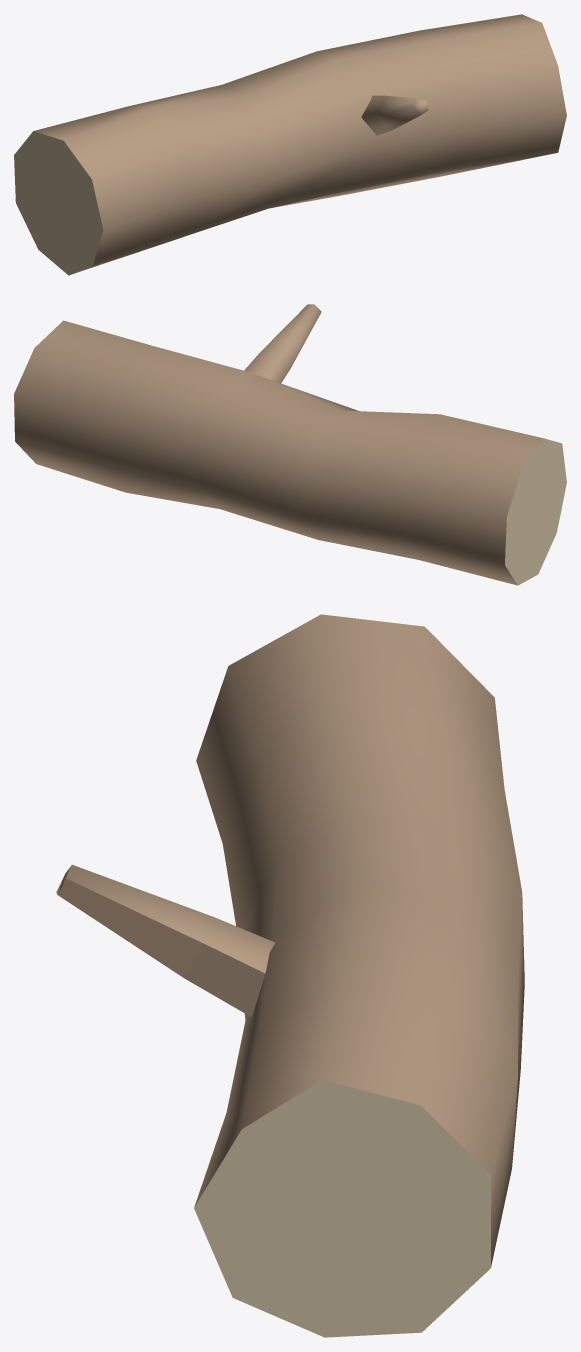
The model's file is log_B.glb.
3 renders of one model, top to bottom at view 1: azimuth 30°, elevation 25°; view 2: azimuth 150°, elevation 25°; view 3: azimuth 270°, elevation 25°, orthographic. The views are drawn at different scales.
Parts seen in each view (by area): view 1: log_B; view 2: log_B; view 3: log_B.
Boxes of the visible parts, <box> form: log_B: <box>14,14,566,275</box>; log_B: <box>14,304,566,585</box>; log_B: <box>56,614,524,1337</box>.
Size of the model in its own units: 0.5671 by 0.169 by 0.2339.
